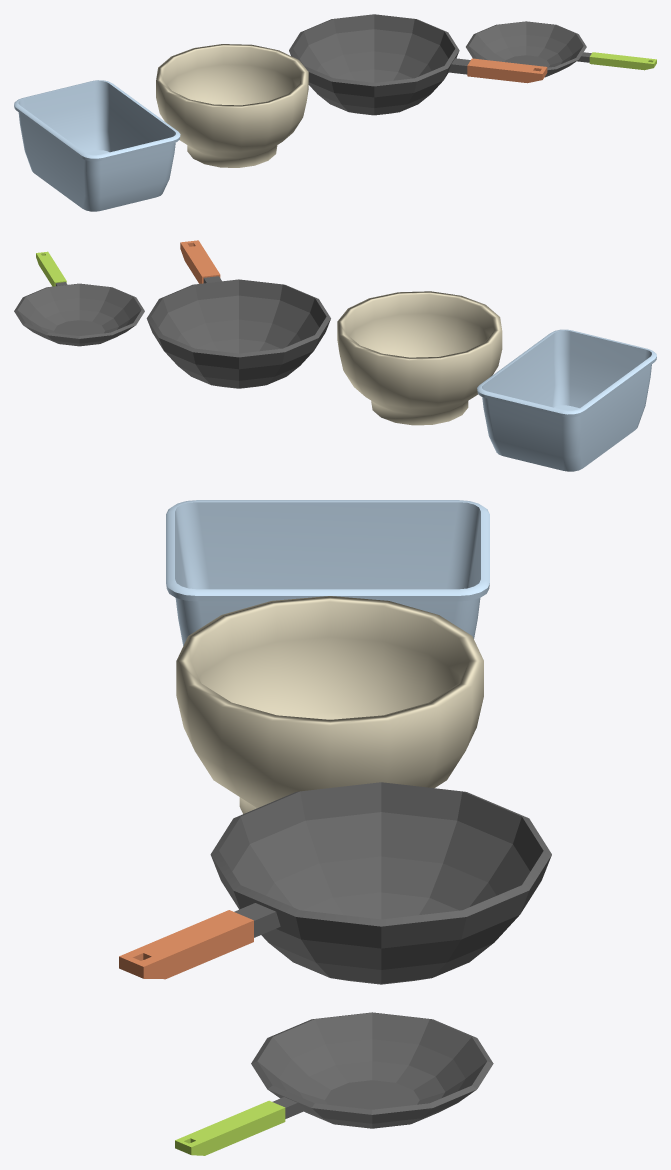
The model's file is Bowl items.fbx.
The picture shows the model from 3 angles, top to bottom: view 1: azimuth 30°, elevation 25°; view 2: azimuth 150°, elevation 25°; view 3: azimuth 270°, elevation 25°; orthographic projection. The views are drawn at different scales.
Parts seen in each view (by area): view 1: pCube120, pCylinder13, pSphere1, pSphere2, pCube118, pCube119; view 2: pCube120, pCylinder13, pSphere1, pSphere2, pCube118, pCube119; view 3: pCylinder13, pSphere1, pCube120, pSphere2, pCube118, pCube119.
Boxes of the visible parts, left/top/right/bottom form: pCube120: left=14, top=80, right=180, bottom=211; pCylinder13: left=156, top=44, right=308, bottom=167; pSphere1: left=289, top=14, right=459, bottom=115; pSphere2: left=466, top=21, right=586, bottom=77; pCube118: left=448, top=58, right=547, bottom=83; pCube119: left=577, top=52, right=656, bottom=70; pCube120: left=477, top=329, right=656, bottom=471; pCylinder13: left=337, top=291, right=502, bottom=425; pSphere1: left=146, top=279, right=330, bottom=388; pSphere2: left=14, top=283, right=144, bottom=346; pCube118: left=180, top=240, right=221, bottom=283; pCube119: left=36, top=251, right=67, bottom=286; pCylinder13: left=176, top=596, right=483, bottom=813; pSphere1: left=210, top=782, right=551, bottom=984; pCube120: left=166, top=500, right=489, bottom=645; pSphere2: left=251, top=1012, right=493, bottom=1128; pCube118: left=119, top=903, right=280, bottom=979; pCube119: left=175, top=1097, right=306, bottom=1155.
Size of the model in its own units: 7.16 by 0.8745 by 2.34.
Materials: 1 (1 with a texture image).
